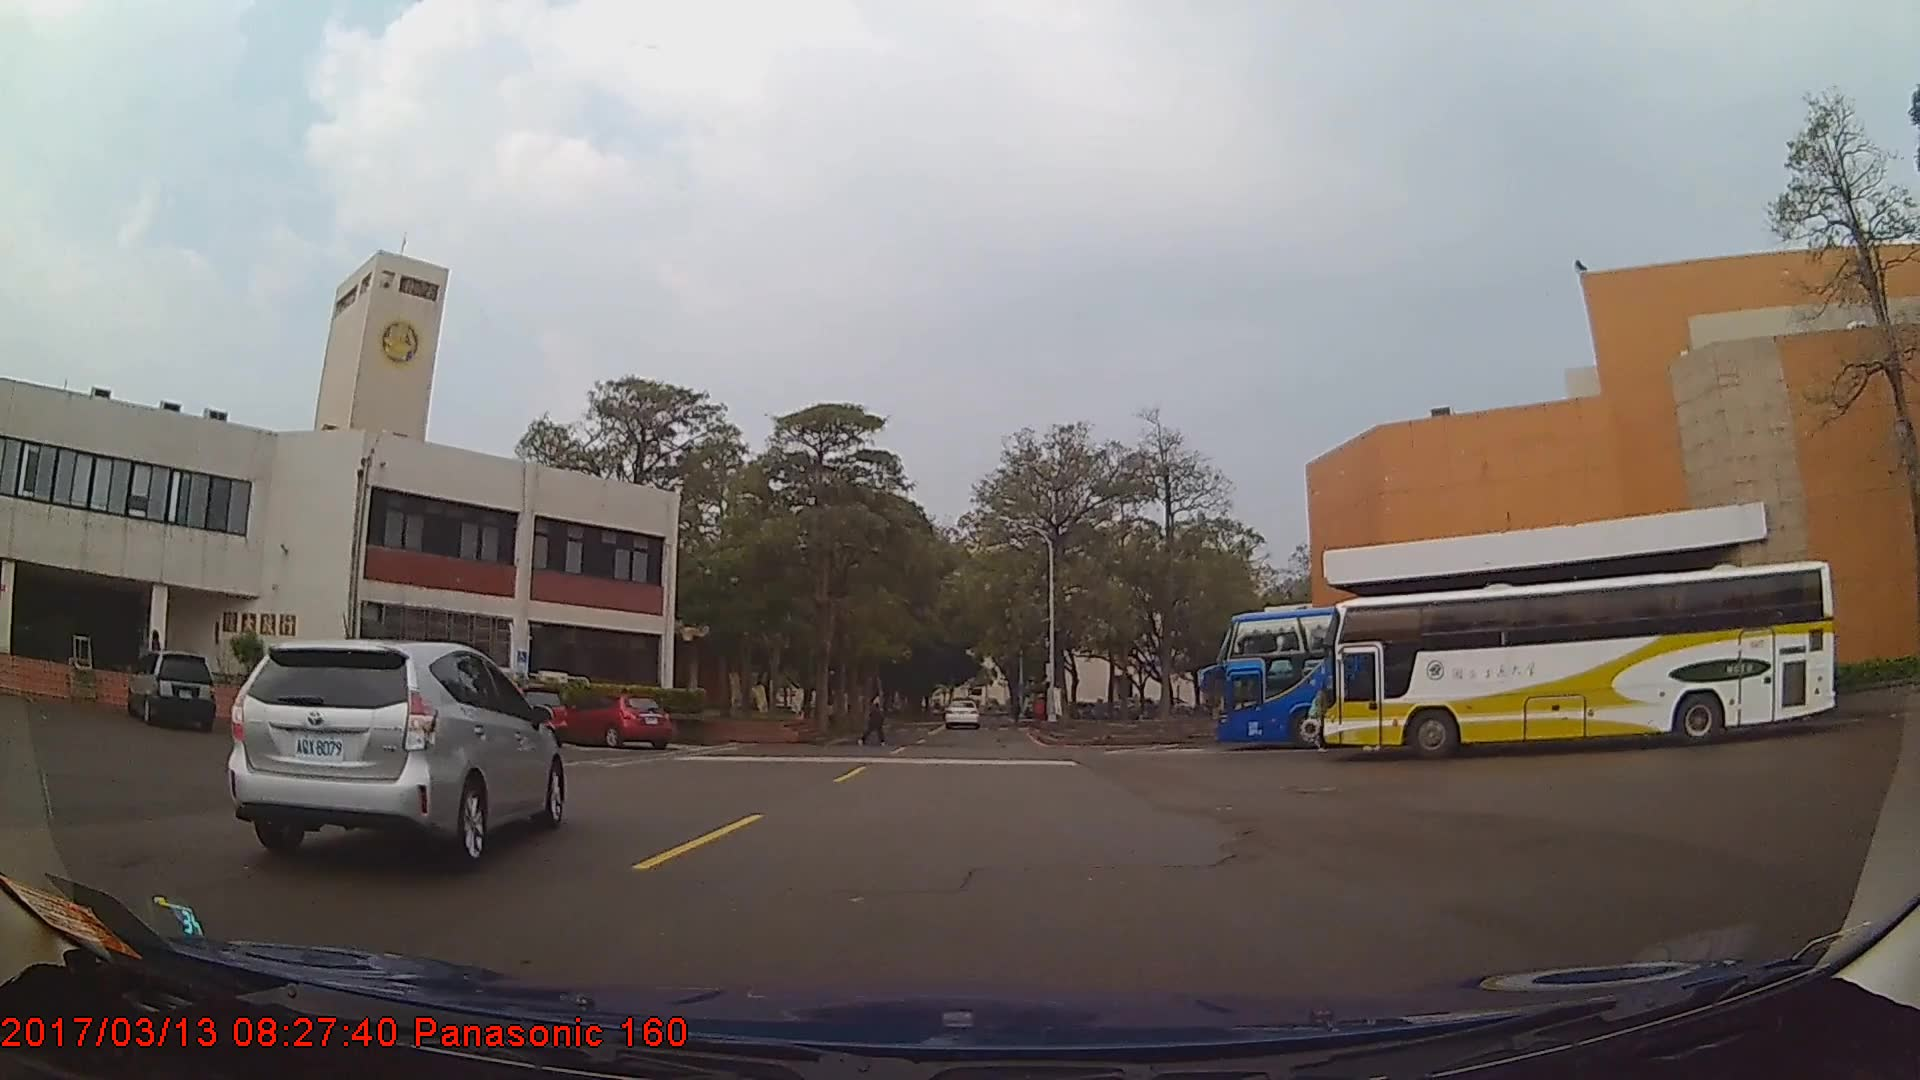pedestrian: (866, 689, 887, 745)
vehicle: (1324, 558, 1839, 762), (226, 633, 569, 864), (1216, 608, 1709, 755), (126, 648, 215, 731), (565, 692, 674, 751), (497, 685, 570, 747), (945, 698, 980, 729)
